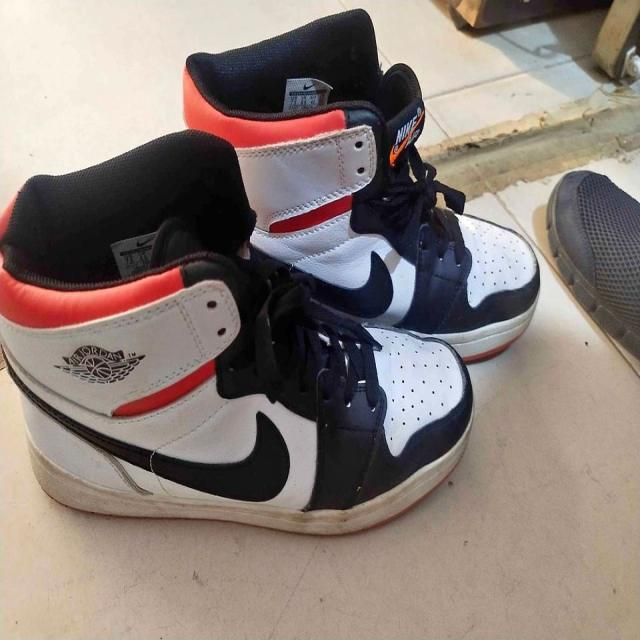nike fake jordan 1: (2, 128, 476, 539), (180, 8, 542, 368)
